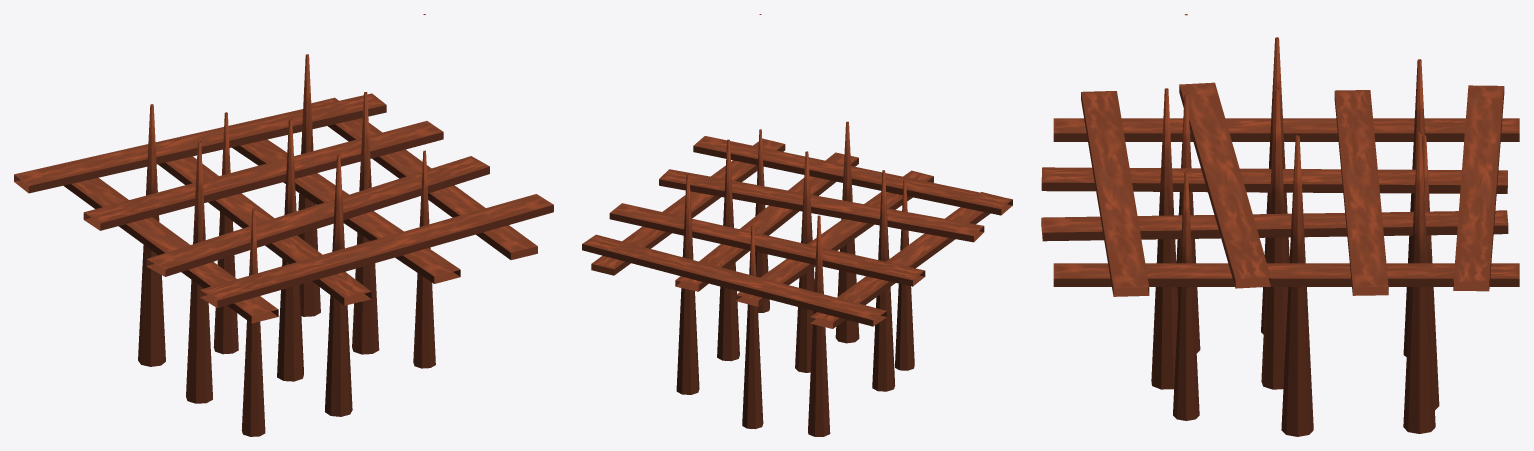
The model's file is trap_bottom_animate.fbx.
3 views of the same model, side by side, from view 1: azimuth 30°, elevation 25°; view 2: azimuth 150°, elevation 25°; view 3: azimuth 270°, elevation 25° (orthographic). The views are drawn at different scales.
Parts seen in each view (by area): view 1: Cylinder.006, Cylinder.000; view 2: Cylinder.006, Cylinder.000; view 3: Cylinder.006, Cylinder.000.
Boxes of the visible parts, box(x1,y1,x2,y2) form: Cylinder.006: box(14, 14, 553, 323); Cylinder.000: box(138, 54, 435, 436); Cylinder.006: box(582, 14, 1012, 328); Cylinder.000: box(676, 121, 914, 436); Cylinder.006: box(1041, 14, 1519, 296); Cylinder.000: box(1151, 37, 1439, 436).
Size of the model in its own units: 1049 by 1047 by 1022.
